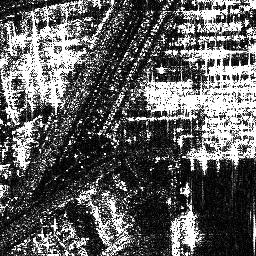ship: (185, 209, 198, 247)
